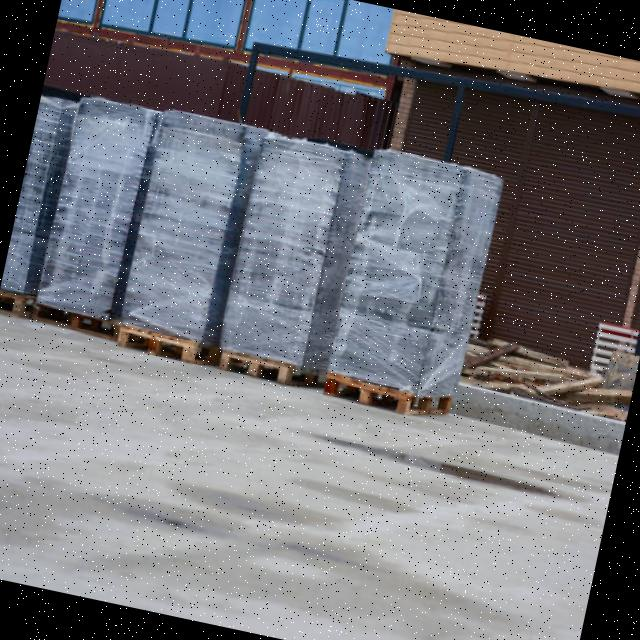Wooden-Pallets: (0, 284, 450, 419), (205, 333, 312, 396), (108, 308, 208, 370), (316, 368, 407, 419), (18, 292, 118, 338)
